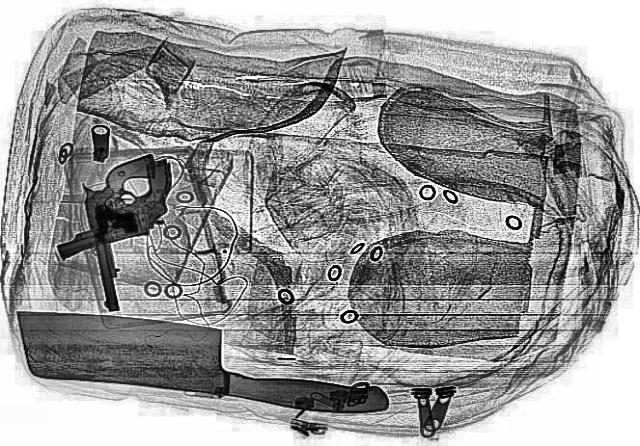Gun: (24, 150, 208, 276), (65, 157, 162, 318)
Knife: (0, 306, 400, 420)
